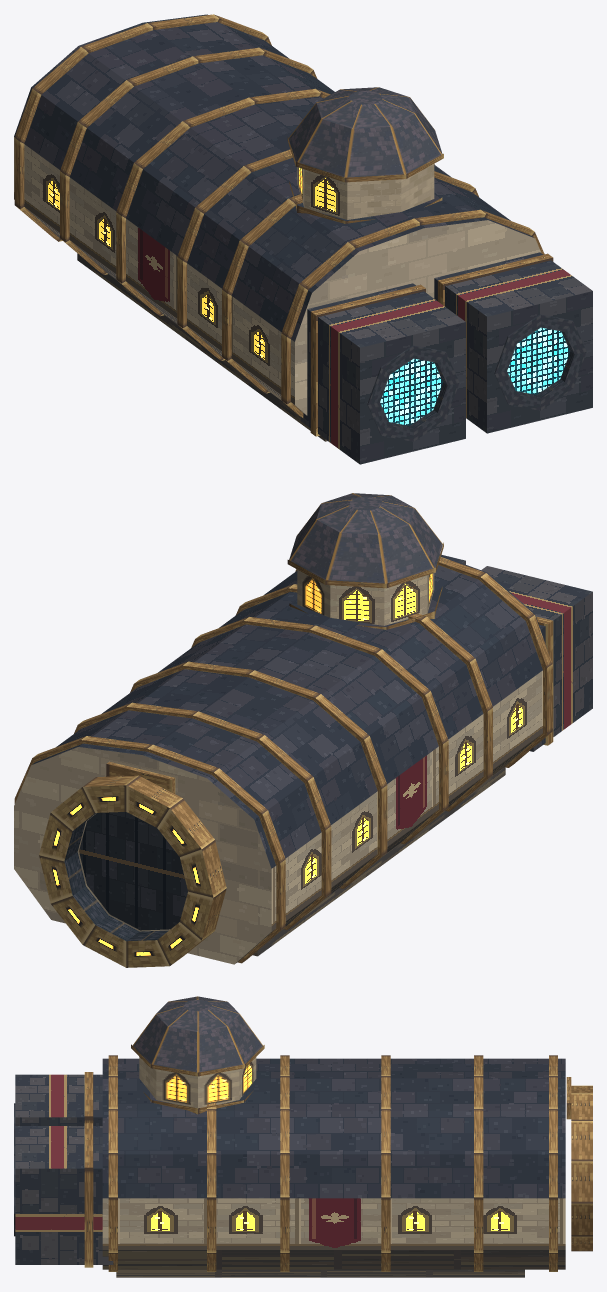
Rendered from pilgrim.glb.
The picture shows the model from 3 angles, top to bottom: view 1: azimuth 30°, elevation 25°; view 2: azimuth 150°, elevation 25°; view 3: azimuth 270°, elevation 25°; orthographic projection. The views are drawn at different scales.
Parts seen in each view (by area): view 1: Pilgrim_LOD0; view 2: Pilgrim_LOD0; view 3: Pilgrim_LOD0.
Boxes of the visible parts, x1=… form: Pilgrim_LOD0: x1=14, y1=14, x2=592, y2=464; Pilgrim_LOD0: x1=14, y1=493, x2=592, y2=967; Pilgrim_LOD0: x1=14, y1=996, x2=592, y2=1277.
Bounding box in the file's own units: 9.28 × 9.65 × 21.25.
Materials: 1 (1 with a texture image).
